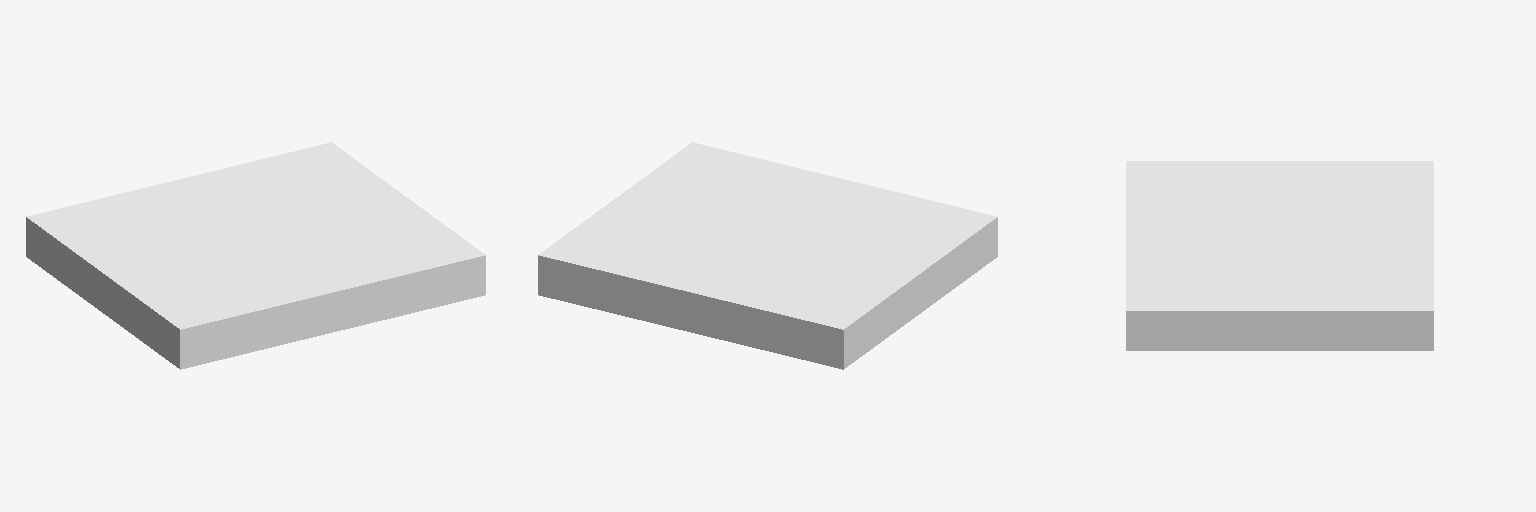
The model's file is move.obj.
3 renders of one model, left to right at view 1: azimuth 30°, elevation 25°; view 2: azimuth 150°, elevation 25°; view 3: azimuth 270°, elevation 25°, orthographic.
Visible parts, largest first — view 1: move; view 2: move; view 3: move.
Boxes of the visible parts, x1=… form: move: x1=26, y1=142, x2=485, y2=369; move: x1=538, y1=142, x2=997, y2=369; move: x1=1126, y1=161, x2=1433, y2=350.
Bounding box in the file's own units: 8 × 1 × 7.